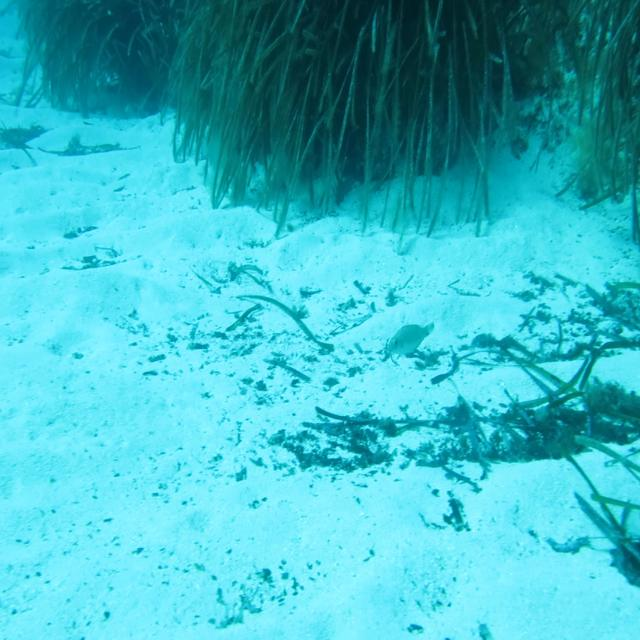AM: (387, 320, 435, 360)
vegetation: (118, 0, 510, 231), (512, 0, 640, 277), (450, 368, 640, 460), (384, 341, 393, 364)
